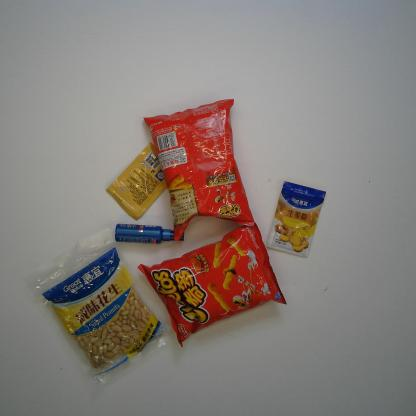Dried Fruit: (20, 224, 174, 390)
Personal Hygiene: (114, 223, 185, 245)
Puffed Food: (137, 220, 287, 349), (143, 98, 255, 242)
Seasoner: (105, 141, 168, 222), (265, 179, 327, 259)
